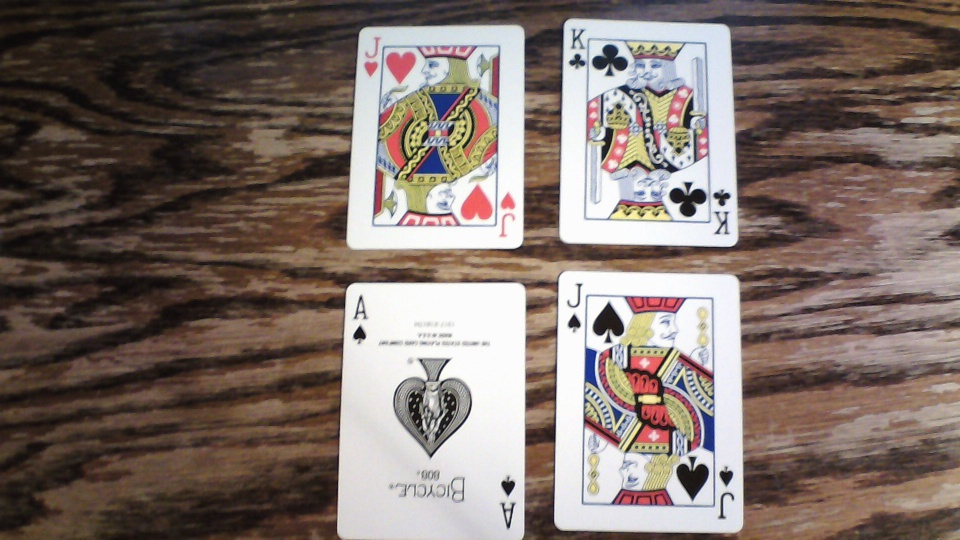ace: (337, 281, 524, 540)
jack: (551, 270, 744, 533), (347, 25, 525, 250)
king: (560, 16, 741, 248)
